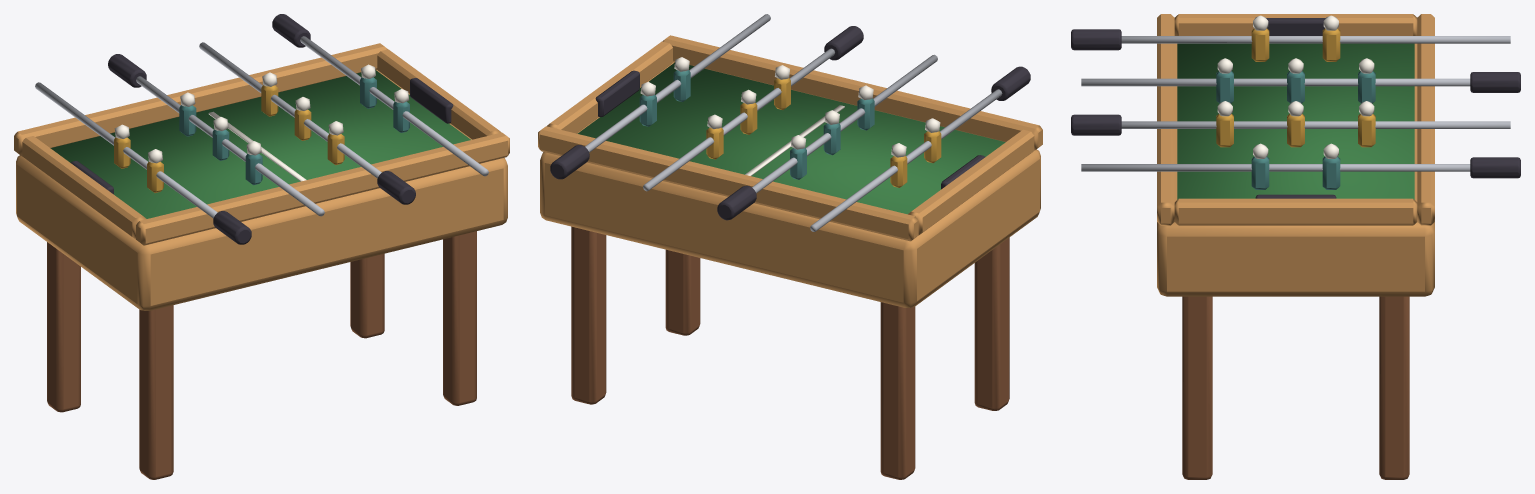
The model's file is foosball.glb.
3 renders of one model, left to right at view 1: azimuth 30°, elevation 25°; view 2: azimuth 150°, elevation 25°; view 3: azimuth 270°, elevation 25°, orthographic. The views are drawn at different scales.
Parts seen in each view (by area): view 1: foosball, foosball_rod1, foosball_rod2, foosball_rod3, foosball_rod0; view 2: foosball, foosball_rod1, foosball_rod2, foosball_rod0, foosball_rod3; view 3: foosball, foosball_rod1, foosball_rod2, foosball_rod0, foosball_rod3.
Part boxes in pixels (x1,y1,x2,y2): foosball: (14, 43, 509, 479); foosball_rod1: (108, 54, 324, 216); foosball_rod2: (199, 42, 415, 204); foosball_rod3: (272, 14, 488, 176); foosball_rod0: (35, 82, 251, 244); foosball: (538, 35, 1042, 479); foosball_rod1: (717, 54, 937, 220); foosball_rod2: (643, 26, 863, 191); foosball_rod0: (810, 66, 1030, 231); foosball_rod3: (550, 14, 770, 179); foosball: (1157, 14, 1434, 479); foosball_rod1: (1081, 58, 1520, 103); foosball_rod2: (1071, 101, 1510, 147); foosball_rod0: (1071, 15, 1510, 61); foosball_rod3: (1081, 143, 1520, 189).
Size of the model in its own units: 0.9 by 0.693 by 0.89.
